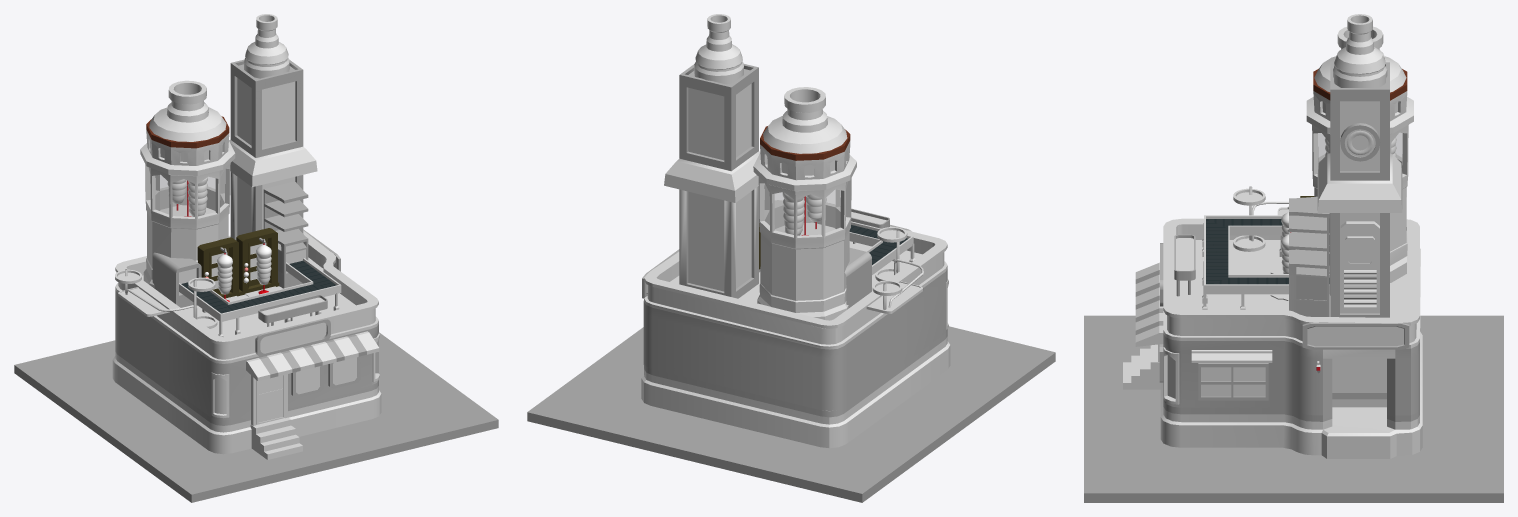
Rendered from kitchen-4.fbx.
3 renders of one model, left to right at view 1: azimuth 30°, elevation 25°; view 2: azimuth 150°, elevation 25°; view 3: azimuth 270°, elevation 25°, orthographic. The views are drawn at different scales.
Parts seen in each view (by area): view 1: pCube2, pCube59, pCube61, pCylinder6, pCylinder13.003, pCube73, Circle.002, polySurface5.001, Circle.001, pCube60.001, pCube63, pCylinder13.002 (+11 smaller); view 2: pCube59, pCube2, pCube61, pCylinder6, Circle.002, Circle.001, pCylinder13.003, pCylinder13.002, pCube79, pCylinder4.004; view 3: pCube2, pCube59, pCube61, pCylinder6, pCube73, pCylinder13.003, pCube68, pCube75, Circle.001, pCube62, polySurface5.001, pCube67 (+5 smaller).
Part boxes in pixels (<box>): pCube2: <box>14,332,498,502</box>; pCube59: <box>112,230,381,454</box>; pCube61: <box>229,59,317,240</box>; pCylinder6: <box>140,116,235,288</box>; pCylinder13.003: <box>179,258,341,321</box>; pCube73: <box>263,181,308,288</box>; Circle.002: <box>149,80,226,141</box>; polySurface5.001: <box>246,331,379,381</box>; Circle.001: <box>244,14,289,78</box>; pCube60.001: <box>236,228,279,296</box>; pCube63: <box>255,318,330,356</box>; pCylinder13.002: <box>152,252,201,307</box>; pCube59: <box>641,200,950,448</box>; pCube2: <box>527,326,1055,502</box>; pCube61: <box>664,64,760,298</box>; pCylinder6: <box>753,126,856,320</box>; Circle.002: <box>763,87,847,153</box>; Circle.001: <box>694,14,743,84</box>; pCylinder13.003: <box>846,221,913,287</box>; pCylinder13.002: <box>844,248,871,308</box>; pCube79: <box>866,281,923,313</box>; pCylinder4.004: <box>782,192,804,235</box>; pCube2: <box>1084,315,1503,502</box>; pCube59: <box>1160,218,1422,458</box>; pCube61: <box>1317,62,1402,317</box>; pCylinder6: <box>1306,68,1413,282</box>; pCube73: <box>1289,196,1329,316</box>; pCylinder13.003: <box>1204,215,1329,294</box>; pCube68: <box>1340,221,1379,310</box>; pCube75: <box>1302,322,1409,349</box>; Circle.001: <box>1333,14,1387,87</box>; pCube62: <box>1198,363,1268,400</box>; polySurface5.001: <box>1135,262,1163,346</box>; pCube67: <box>1123,344,1160,389</box>.
Size of the model in its own units: 1072 by 1175 by 1072.
